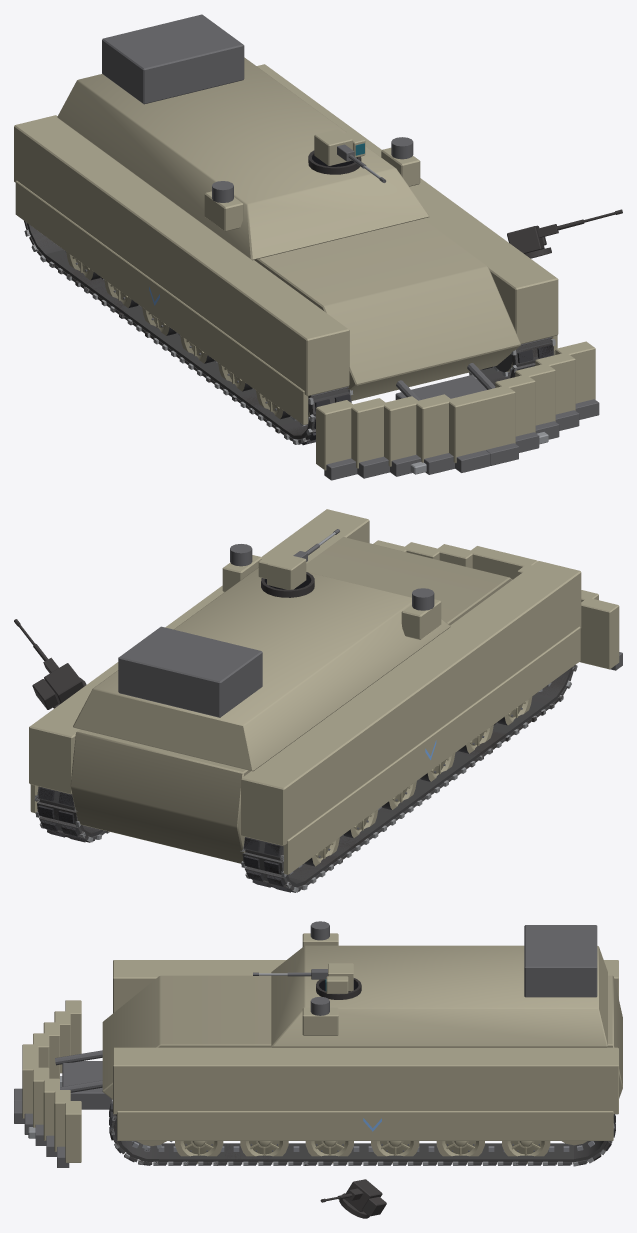
The model's file is mineClearer__namer_engineering.glb.
3 renders of one model, top to bottom at view 1: azimuth 30°, elevation 25°; view 2: azimuth 150°, elevation 25°; view 3: azimuth 270°, elevation 25°, orthographic. The views are drawn at different scales.
Visible parts, largest first — view 1: Hull_Mesh, Track_L_Mesh, Wreck, Turret_Mesh, Track_R_Mesh; view 2: Hull_Mesh, Track_L_Mesh, Wreck, Track_R_Mesh, Turret_Mesh; view 3: Hull_Mesh, Track_R_Mesh, Wreck, Turret_Mesh, Wheel_R4_Mesh, Wheel_R5_Mesh, Wheel_R3_Mesh, Wheel_R0_Mesh, Wheel_R1_Mesh, Wheel_R2_Mesh.
Part boxes in pixels (x1=…): Hull_Mesh: x1=14, y1=14, x2=599, y2=480; Track_L_Mesh: x1=24, y1=221, x2=353, y2=445; Wreck: x1=24, y1=150, x2=622, y2=442; Turret_Mesh: x1=314, y1=129, x2=365, y2=165; Track_R_Mesh: x1=469, y1=337, x2=555, y2=385; Hull_Mesh: x1=29, y1=509, x2=622, y2=874; Track_L_Mesh: x1=240, y1=665, x2=577, y2=892; Wreck: x1=14, y1=572, x2=576, y2=892; Track_R_Mesh: x1=34, y1=786, x2=109, y2=842; Turret_Mesh: x1=258, y1=552, x2=306, y2=589; Hull_Mesh: x1=14, y1=921, x2=622, y2=1167; Track_R_Mesh: x1=109, y1=1100, x2=615, y2=1166; Wreck: x1=109, y1=978, x2=615, y2=1218; Turret_Mesh: x1=325, y1=963, x2=353, y2=993; Wheel_R4_Mesh: x1=240, y1=1141, x2=288, y2=1162; Wheel_R5_Mesh: x1=175, y1=1141, x2=223, y2=1163; Wheel_R3_Mesh: x1=305, y1=1141, x2=353, y2=1163; Wheel_R0_Mesh: x1=502, y1=1141, x2=550, y2=1163; Wheel_R1_Mesh: x1=436, y1=1141, x2=484, y2=1162; Wheel_R2_Mesh: x1=371, y1=1141, x2=419, y2=1163.
Size of what is drawn, in the model's own units: 6.53 by 2.76 by 8.94.
